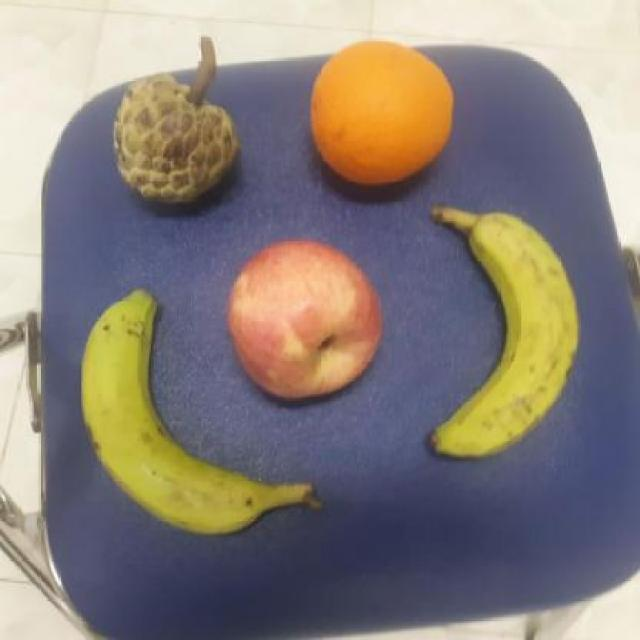apple: (222, 234, 387, 418)
banana: (75, 288, 323, 537), (426, 201, 583, 468)
oren: (310, 40, 455, 188)
sugar apple: (112, 72, 242, 212)
